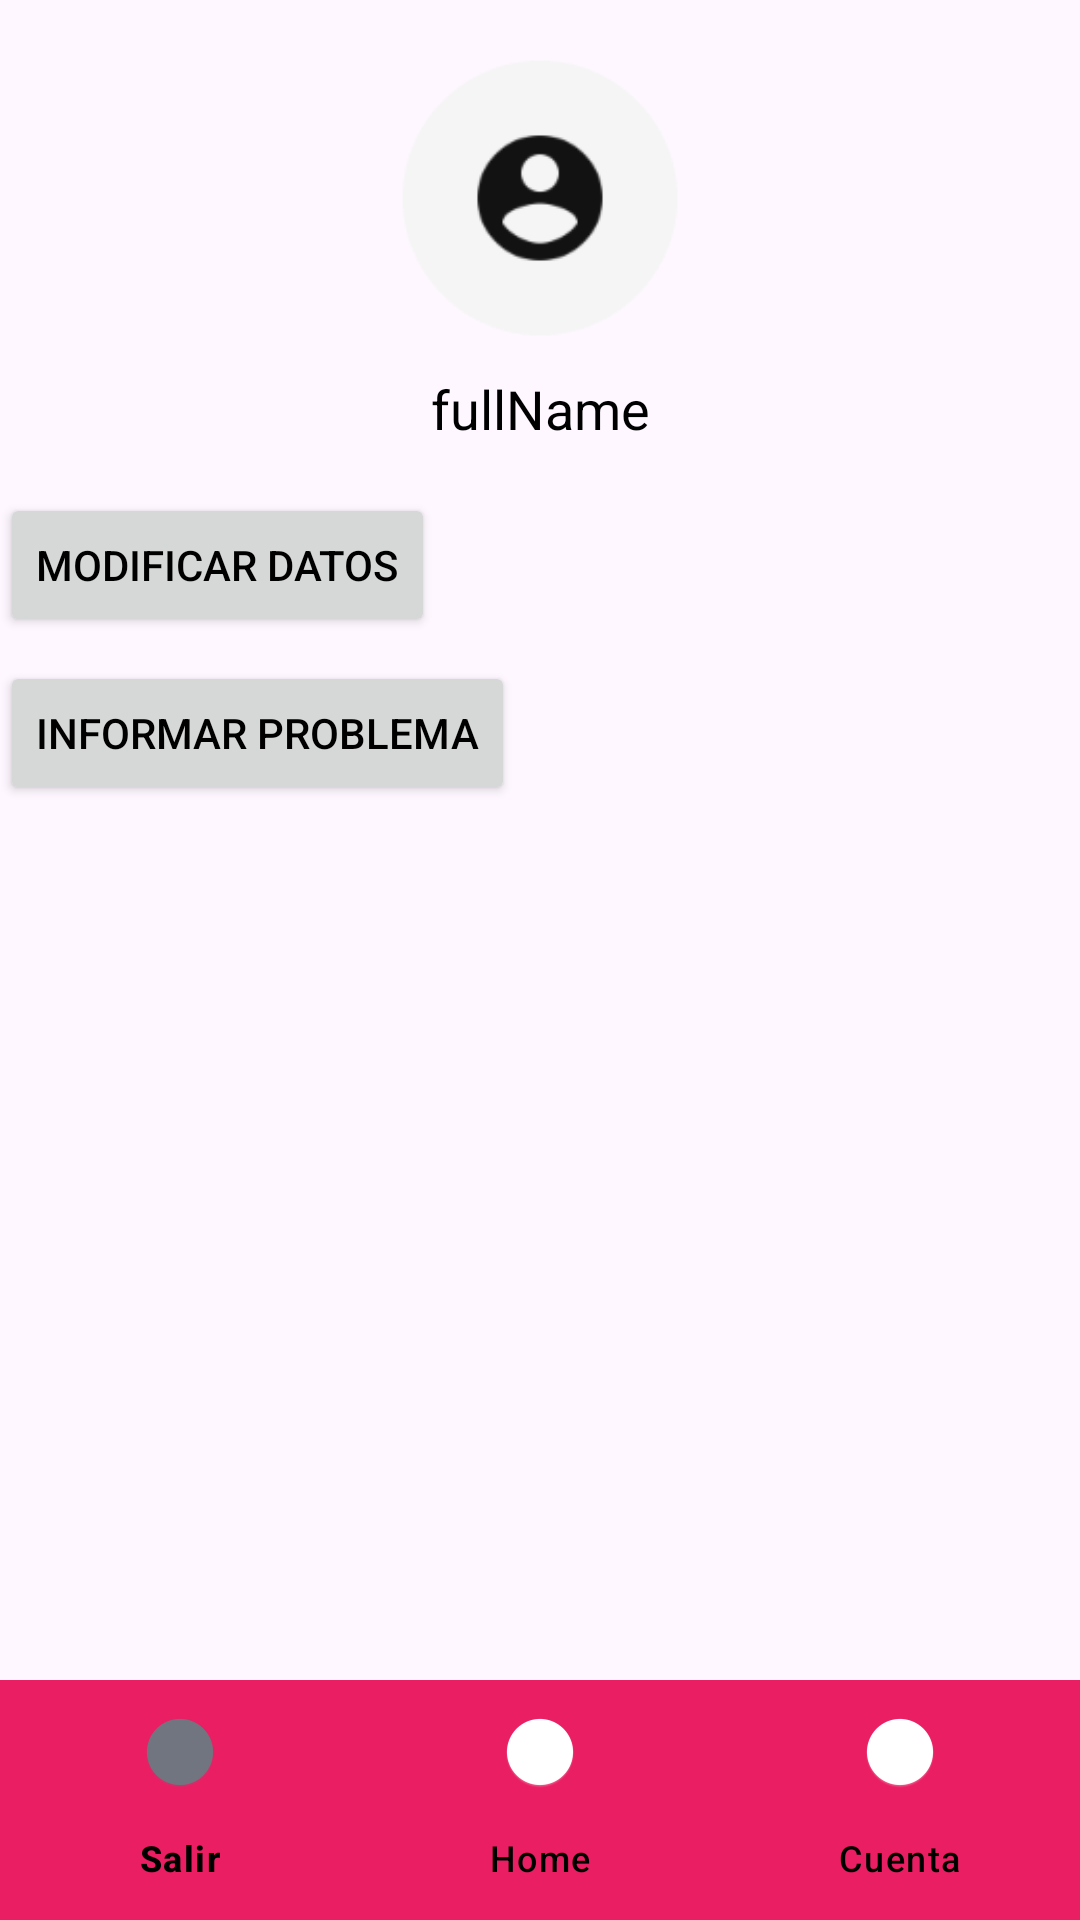

Icon bounding boxes for this 1080×1920 phone screenshot, format box=[x1, y1, x2, y2]:
shortcut account circle: box=[477, 135, 603, 261]
